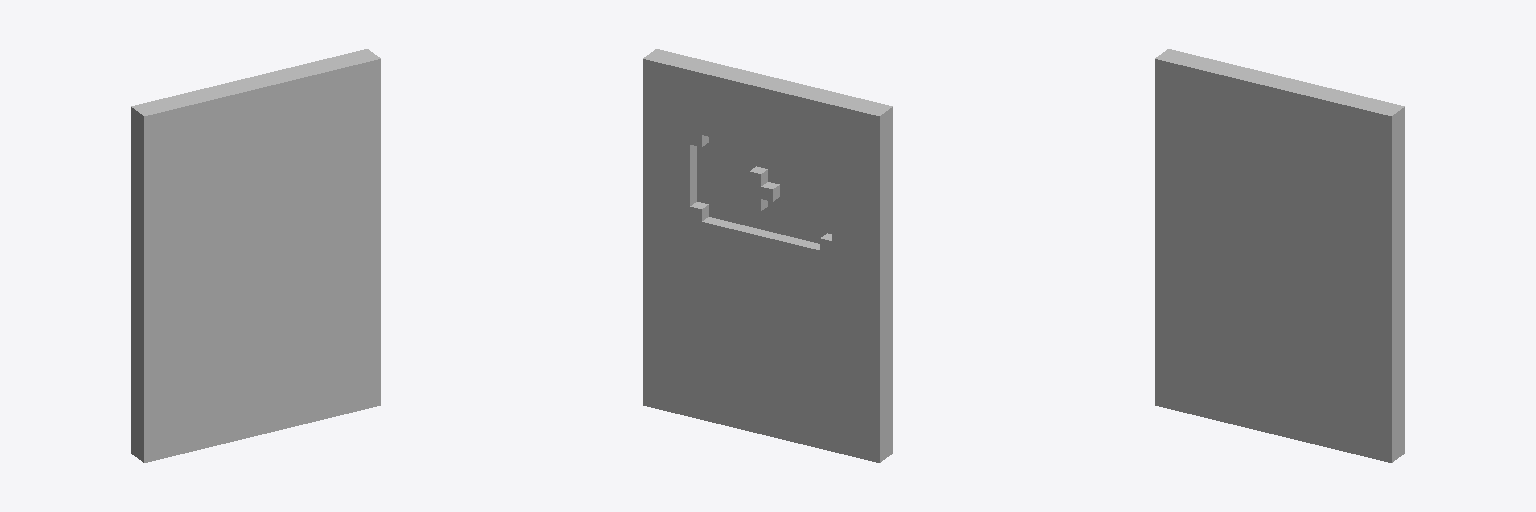
File: youtube.obj
The picture shows the model from 3 angles: view 1: azimuth 30°, elevation 25°; view 2: azimuth 150°, elevation 25°; view 3: azimuth 330°, elevation 25°; orthographic projection.
Parts seen in each view (by area): view 1: cube; view 2: cube; view 3: cube.
Boxes of the visible parts, x1=… form: cube: x1=131, y1=49, x2=380, y2=462; cube: x1=643, y1=49, x2=892, y2=462; cube: x1=1155, y1=49, x2=1404, y2=462.
Size of the model in its own units: 0.3125 by 0.4375 by 0.0312.